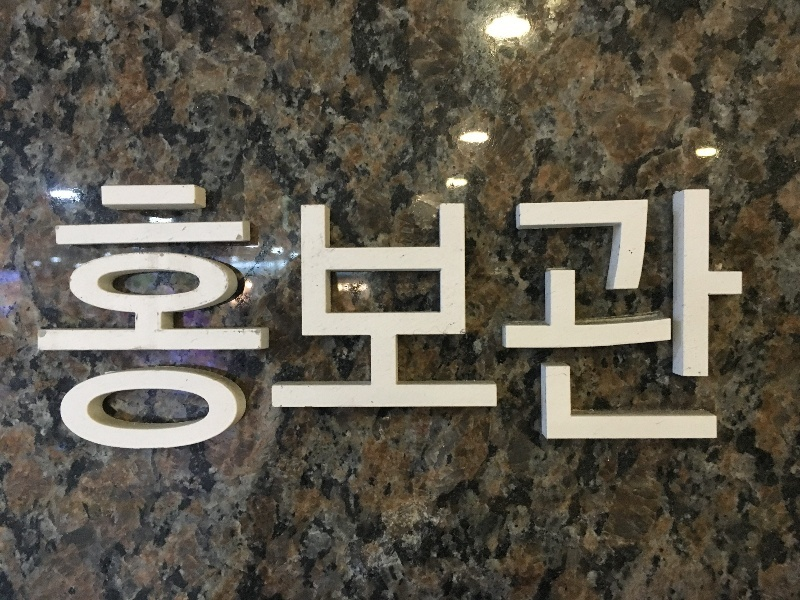text: (49, 182, 64, 455), (65, 182, 80, 455), (81, 182, 96, 455), (97, 182, 112, 455), (113, 182, 128, 455), (129, 182, 144, 455), (145, 182, 160, 455), (161, 182, 176, 455), (177, 182, 192, 455), (193, 182, 208, 455), (209, 182, 224, 455), (225, 182, 240, 455), (241, 182, 256, 455), (257, 182, 272, 455), (273, 182, 288, 455), (289, 182, 304, 455), (305, 182, 320, 455), (321, 182, 336, 455), (337, 182, 352, 455), (353, 182, 368, 455), (369, 182, 384, 455), (385, 182, 400, 455), (401, 182, 416, 455), (417, 182, 432, 455), (433, 182, 448, 455), (449, 182, 464, 455), (465, 182, 480, 455), (481, 182, 496, 455), (497, 182, 512, 455), (513, 182, 528, 455), (529, 182, 544, 455), (545, 182, 560, 455), (561, 182, 576, 455), (577, 182, 592, 455), (593, 182, 608, 455), (609, 182, 624, 455), (625, 182, 640, 455), (641, 182, 656, 455), (657, 182, 672, 455), (673, 182, 688, 455), (689, 182, 704, 455), (705, 182, 720, 455), (721, 182, 736, 455), (737, 182, 752, 455)
